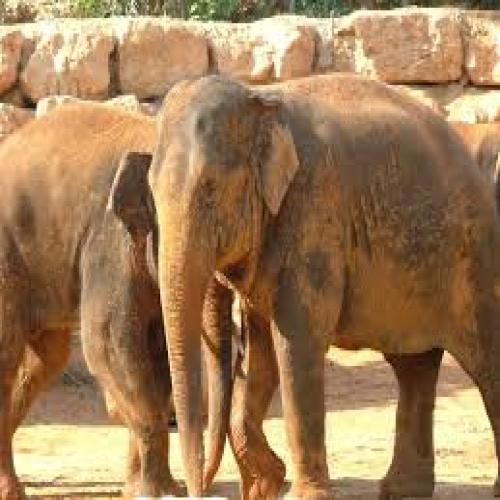asian_elephant-endangered: (105, 73, 500, 500), (0, 103, 290, 494)
